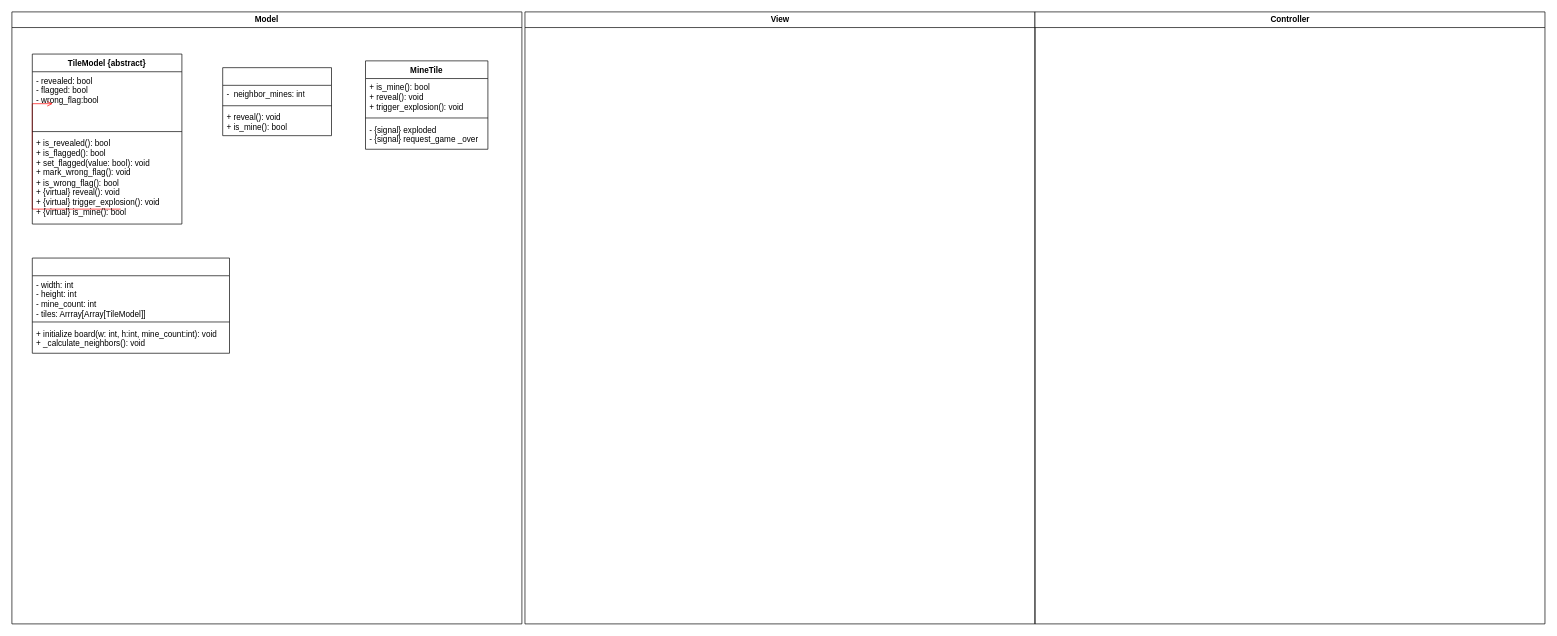
Image size: 1557x636. Some labels were removed from this diagram. The box of each missing label's shape, as (x1, y1, x2, y2) in pixels:
BoardModel: (32, 257, 230, 353)
EmptyTile: (222, 67, 332, 136)
